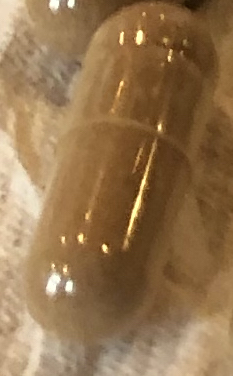capsule: (15, 3, 225, 348), (22, 1, 153, 57)
